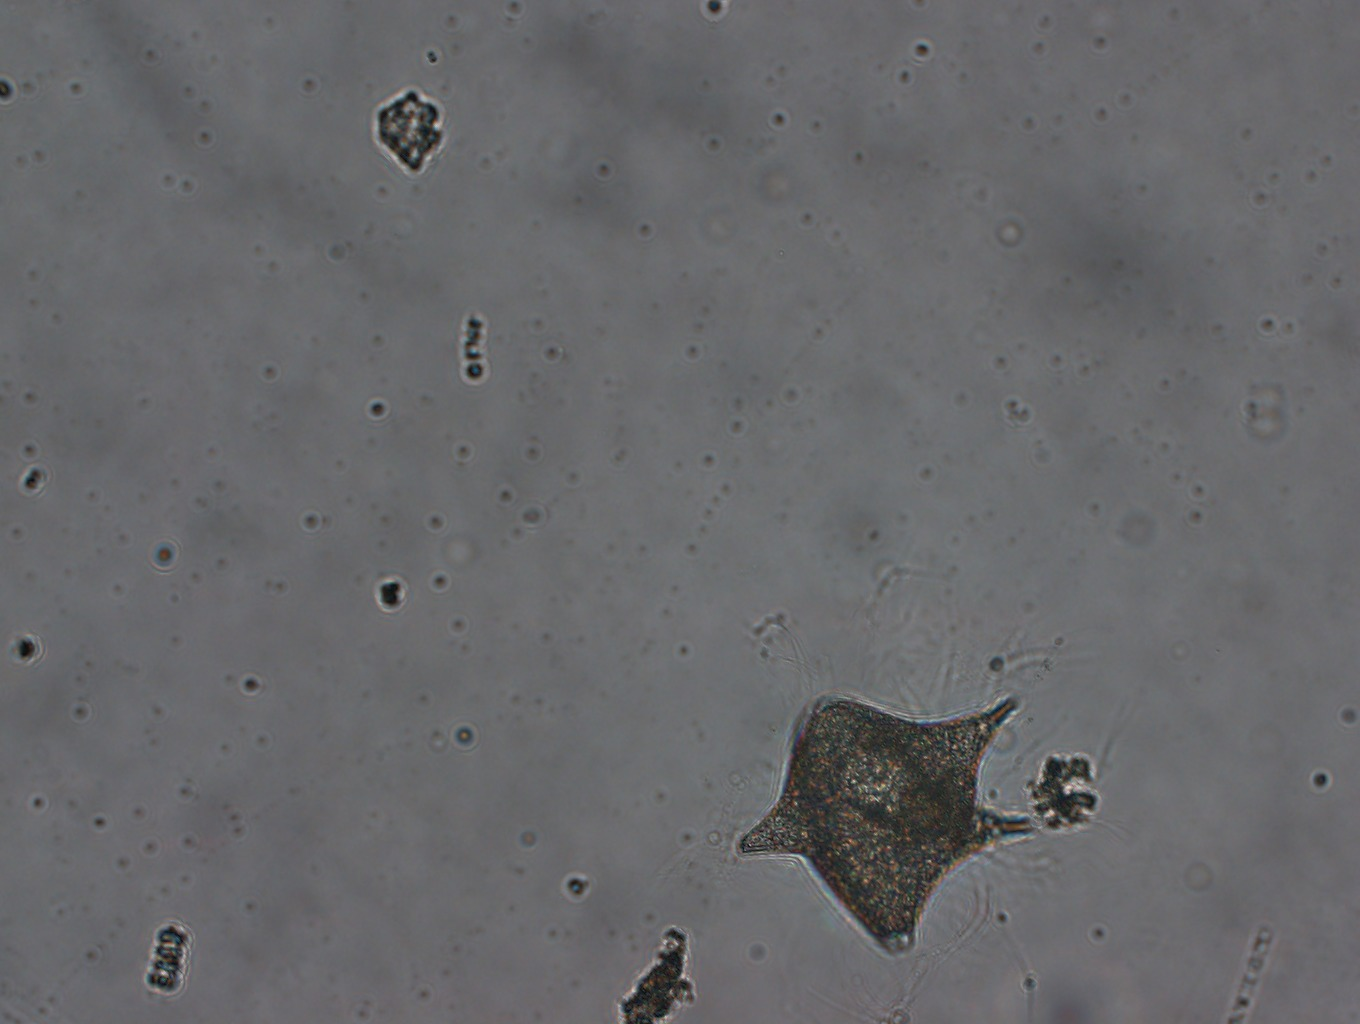protoperidinium: (736, 695, 1033, 955)
